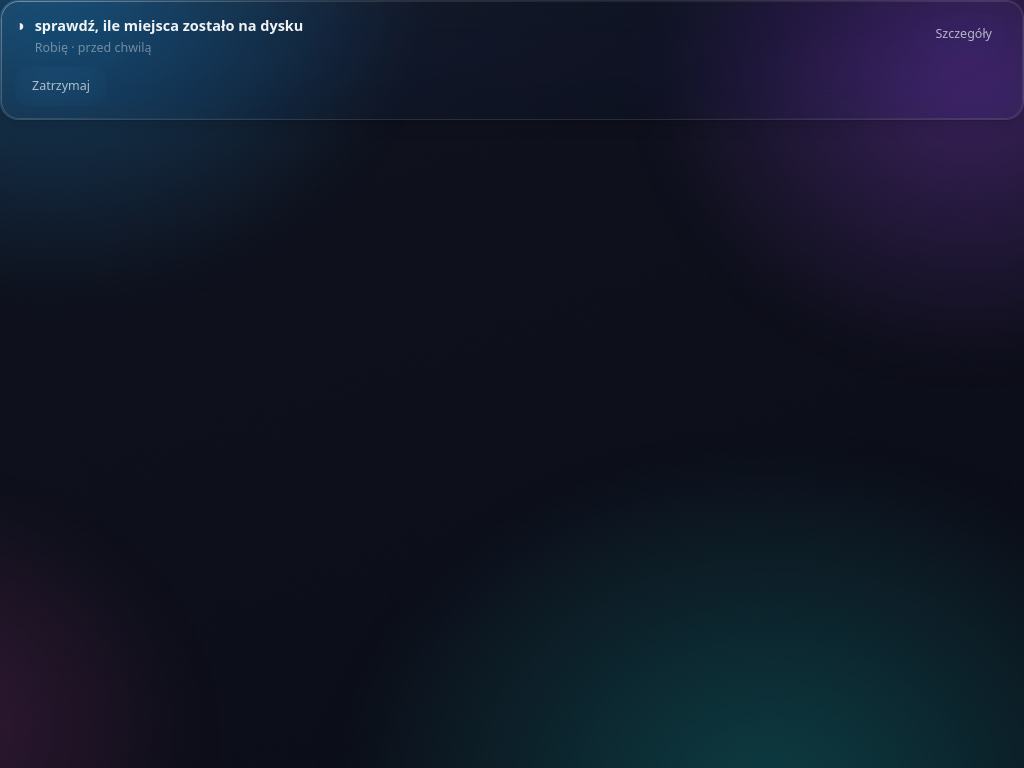
Test: a task in flight › counts steps and never invents a percentage
What coordinates should you click on to do the following:
click the button "Szczegóły"
I would click on:
 (964, 34)
Its box is [918, 15, 1009, 54].
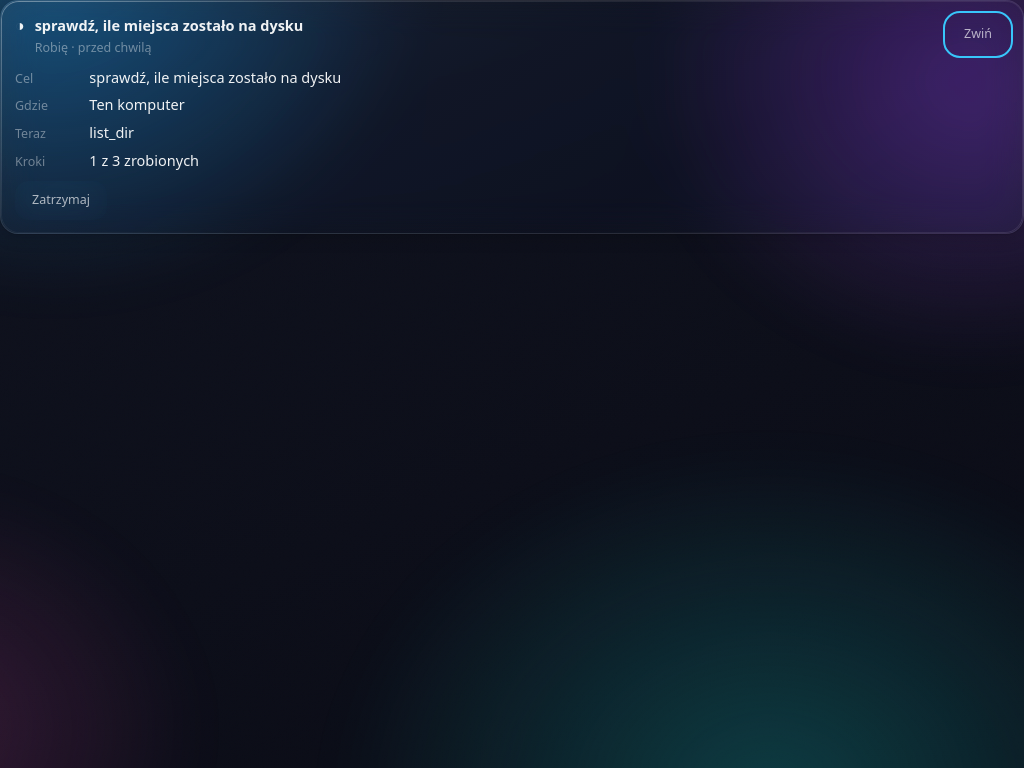
Expected: the text "1 z 3 zrobionych" is shown, [89, 150, 199, 170]
Expected: the text "list_dir" is shown, [89, 122, 134, 142]
